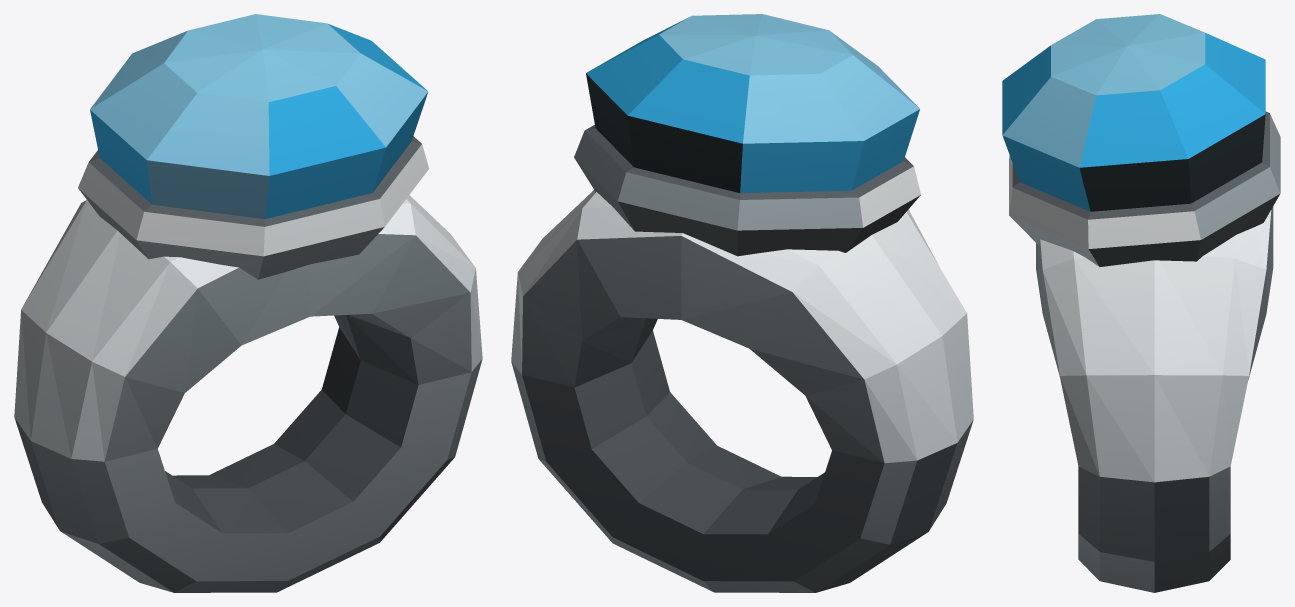
The model's file is source.glb.
3 views of the same model, side by side, from view 1: azimuth 30°, elevation 25°; view 2: azimuth 150°, elevation 25°; view 3: azimuth 270°, elevation 25° (orthographic). The views are drawn at different scales.
Parts seen in each view (by area): view 1: model; view 2: model; view 3: model.
Part boxes in pixels (x1,y1,x2,y2): model: (14,14,482,592); model: (511,14,973,592); model: (1002,14,1280,592).
Bounding box in the file's own units: 0.52 × 0.62 × 0.3.
Materials: 1 (1 with a texture image).
